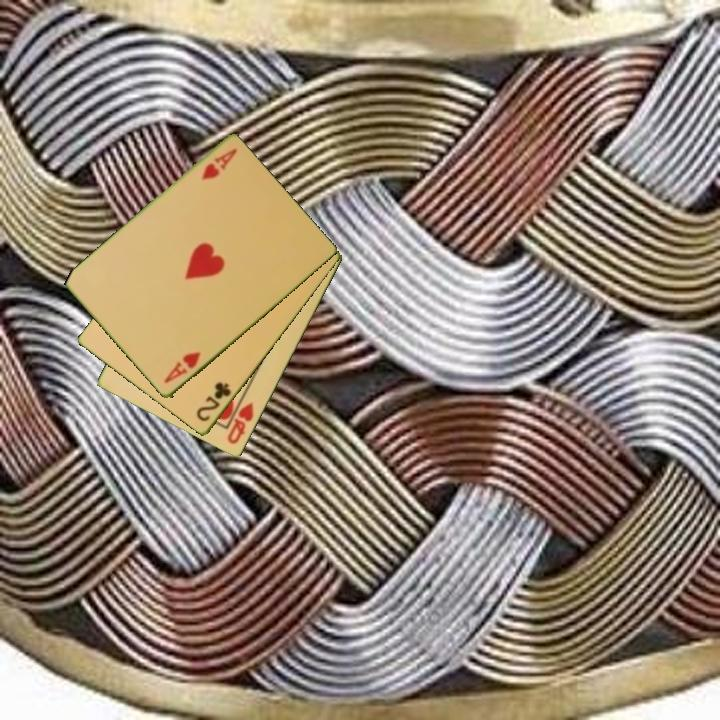2c: (193, 379, 234, 425)
Ah: (160, 349, 204, 387), (198, 145, 240, 183)
Qh: (224, 399, 257, 447)
